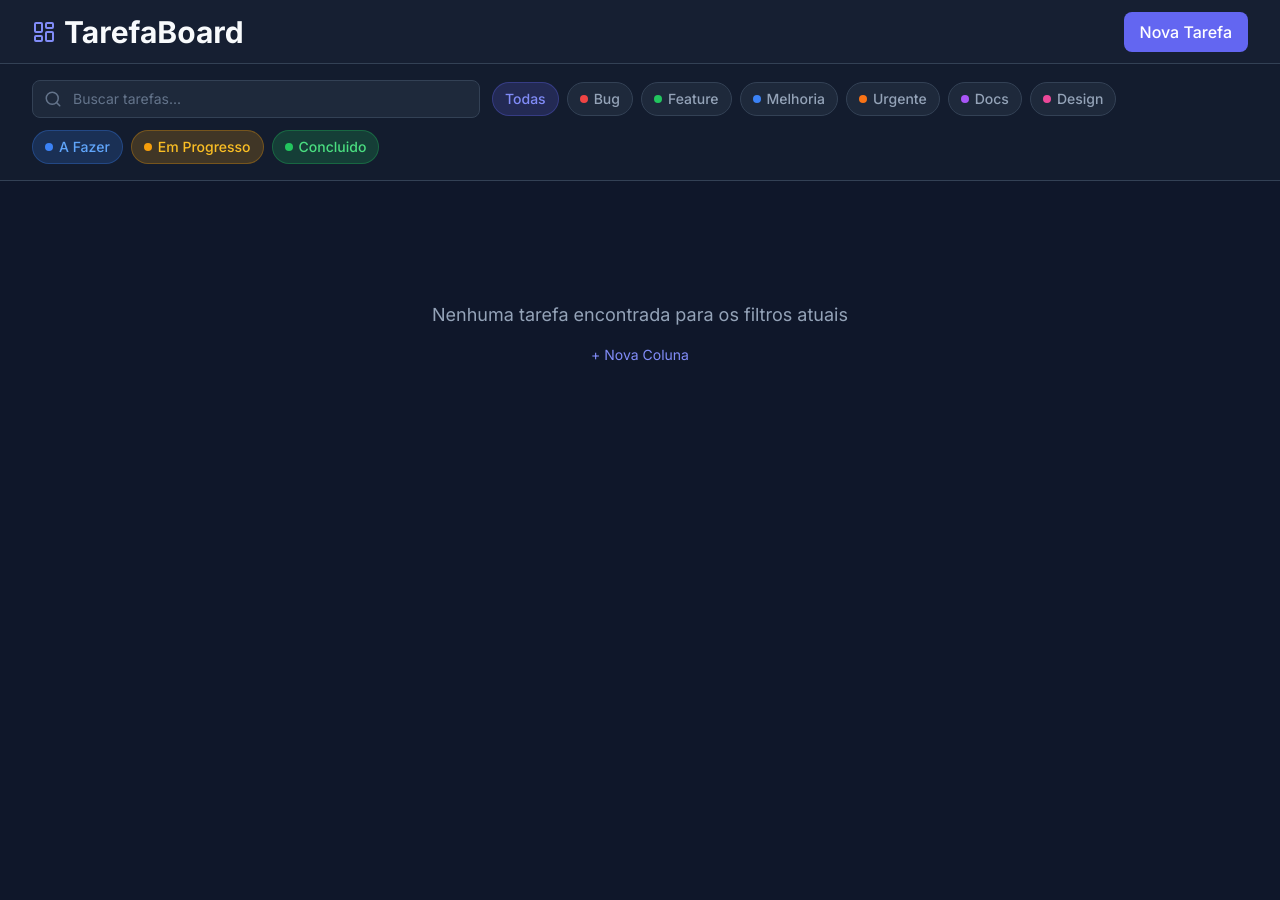
Test: App › deve criar uma tarefa e exibi-la no board
Click the button "Nova Tarefa" at (1186, 32), box top-left (1124, 12), bottom-right (1248, 52)
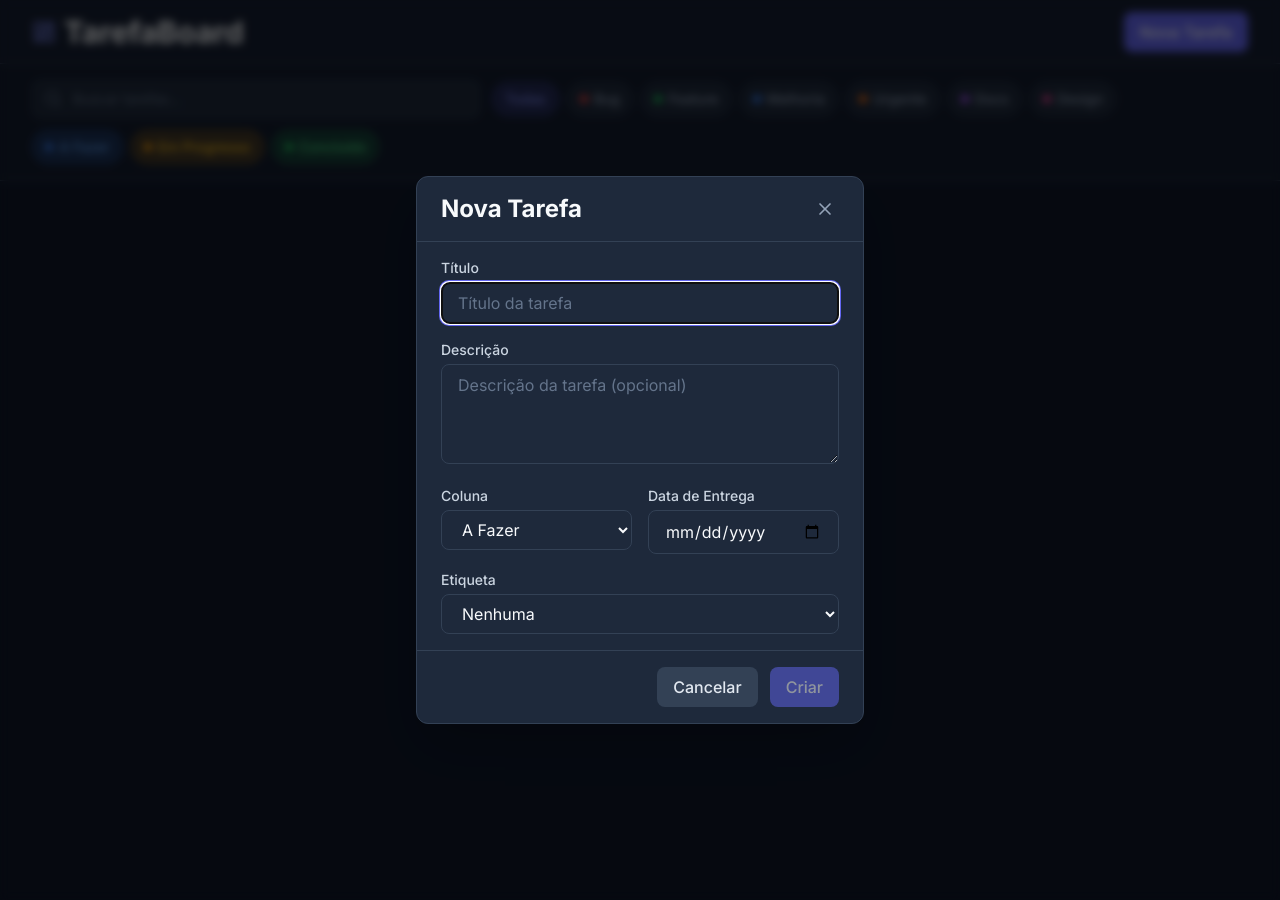
Type "Minha Primeira Tarefa" into the field labelled "Título" at (640, 303), box top-left (441, 282), bottom-right (839, 324)
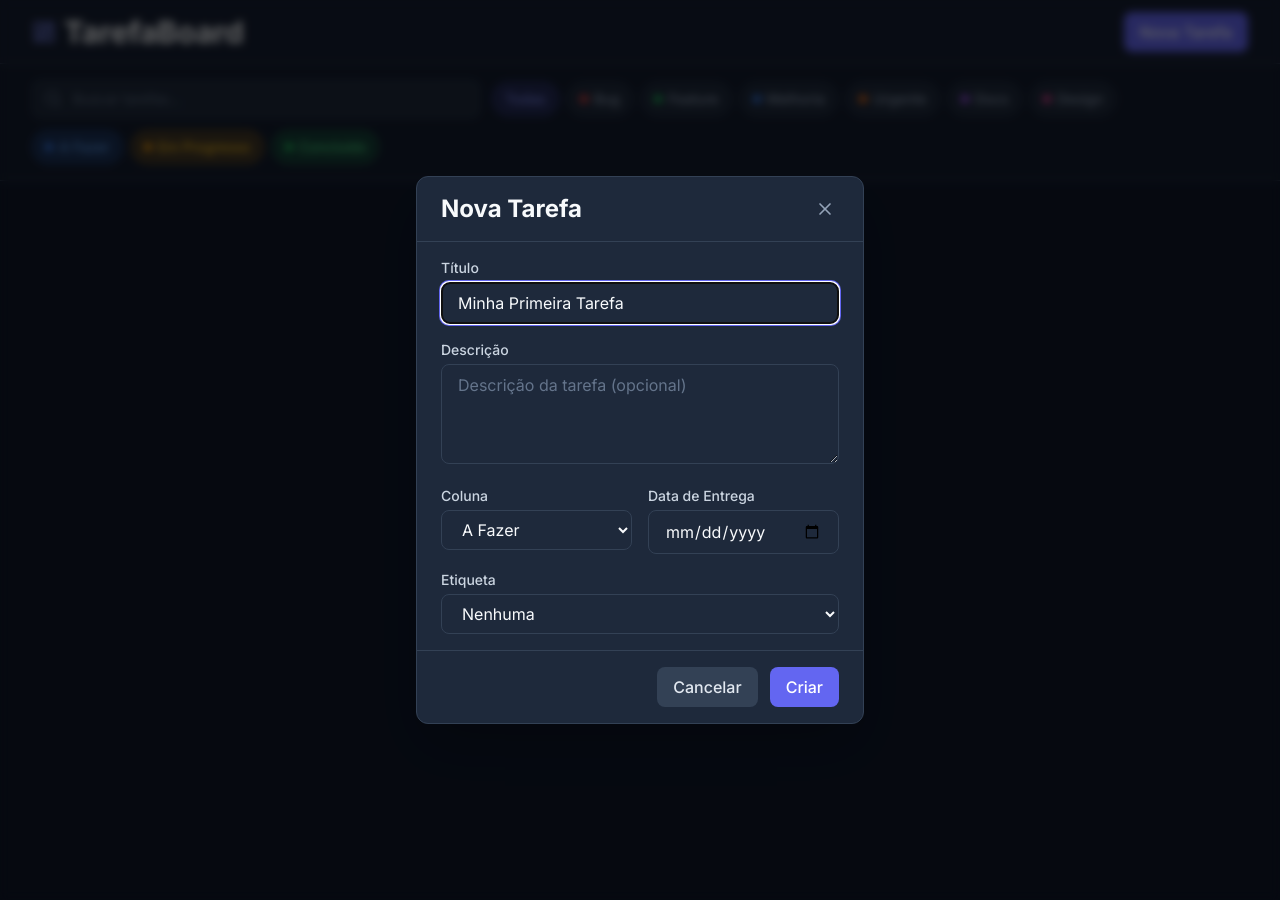
Click the button "Criar" at (804, 687), box top-left (770, 667), bottom-right (839, 707)
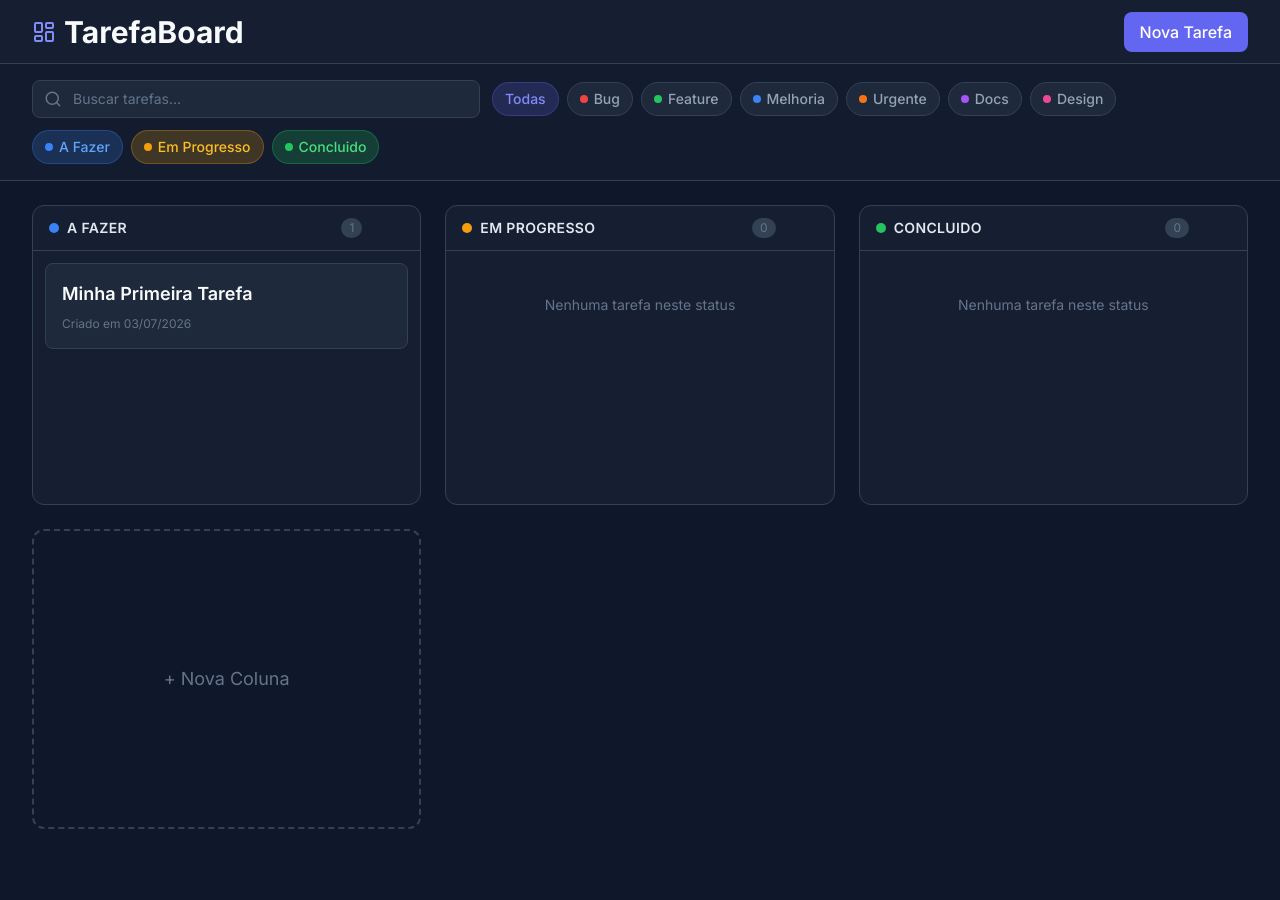
expect the heading "Minha Primeira Tarefa" is shown: met, box top-left (62, 280), bottom-right (252, 308)
